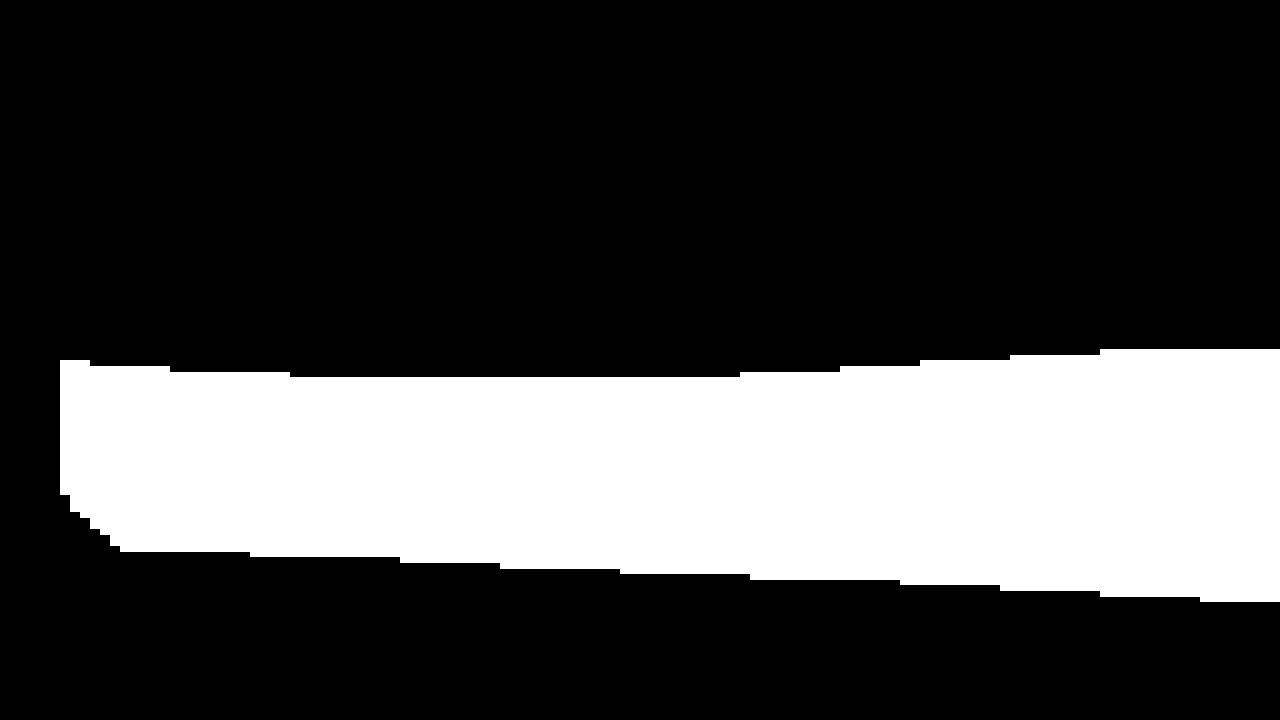Turbine: (30, 317, 1268, 559)
